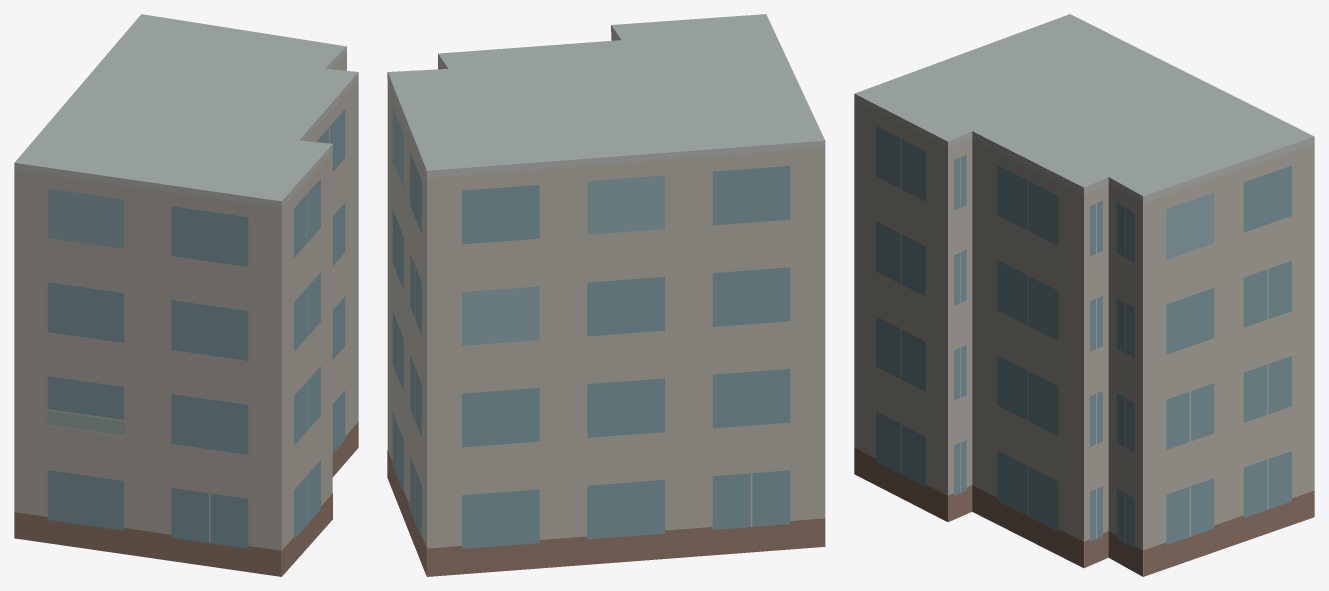
The model's file is survey-upis-32772476.glb.
The picture shows the model from 3 angles, left to right: view 1: azimuth 30°, elevation 25°; view 2: azimuth 150°, elevation 25°; view 3: azimuth 270°, elevation 25°; orthographic projection. The views are drawn at different scales.
Visible parts, largest first — view 1: survey-upis-32772476.tmp; view 2: survey-upis-32772476.tmp; view 3: survey-upis-32772476.tmp.
Part boxes in pixels (x1,y1,x2,y2): survey-upis-32772476.tmp: [14, 14, 358, 576]; survey-upis-32772476.tmp: [387, 14, 825, 576]; survey-upis-32772476.tmp: [854, 14, 1314, 576].
Size of the model in its own units: 14.29 by 13.9 by 15.24.
